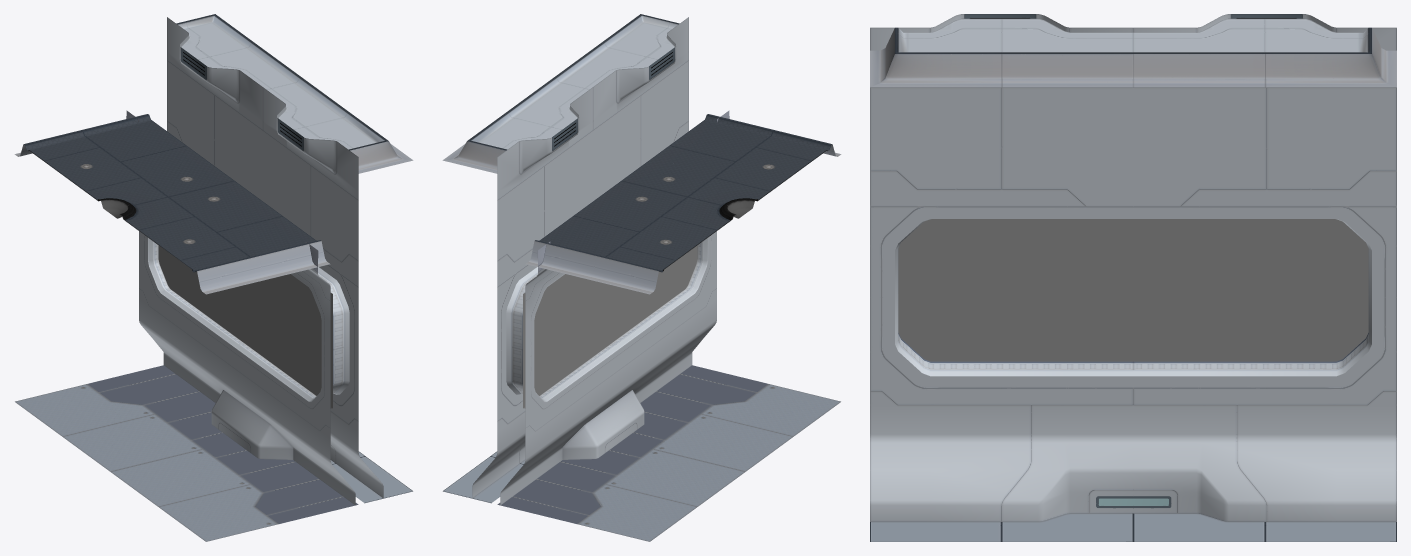
Rendered from Room_A_4m_window_wall.fbx.
3 renders of one model, left to right at view 1: azimuth 30°, elevation 25°; view 2: azimuth 150°, elevation 25°; view 3: azimuth 270°, elevation 25°, orthographic. The views are drawn at different scales.
Parts seen in each view (by area): view 1: Room_A_4m_window_wall; view 2: Room_A_4m_window_wall; view 3: Room_A_4m_window_wall.
Boxes of the visible parts, bbox=[...] form: Room_A_4m_window_wall: bbox=[14, 14, 413, 541]; Room_A_4m_window_wall: bbox=[442, 14, 841, 541]; Room_A_4m_window_wall: bbox=[870, 14, 1396, 541].
Bounding box in the file's own units: 250 × 400 × 400.
8 materials, 7 textured.
